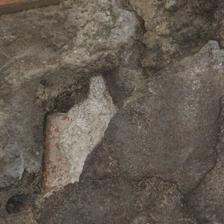Crack: (14, 48, 147, 224), (44, 0, 224, 117), (37, 26, 137, 64), (118, 20, 146, 126)
